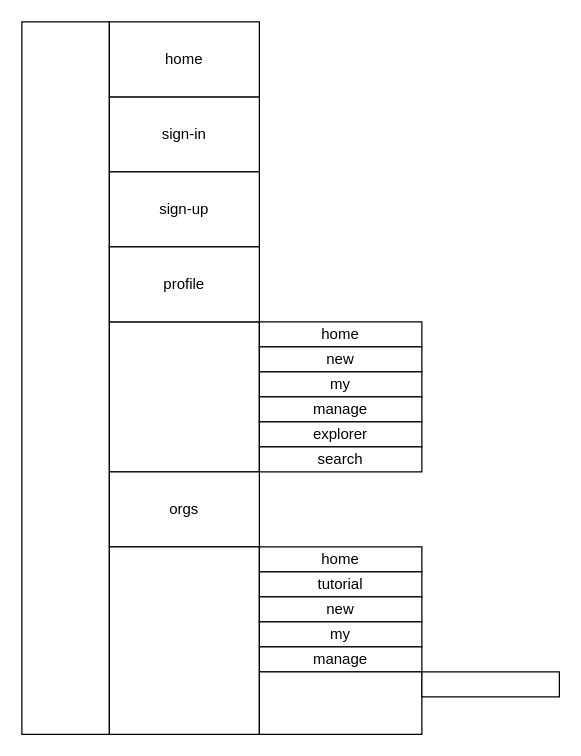
Some shapes in this 581 by 756 pixel diagram are drawn without their labels. Each missing label, with the centre of its shape:
/:studio_name: [490,684]
adu: [65,377]
ide: [340,702]
projects: [183,396]
studio: [183,640]
